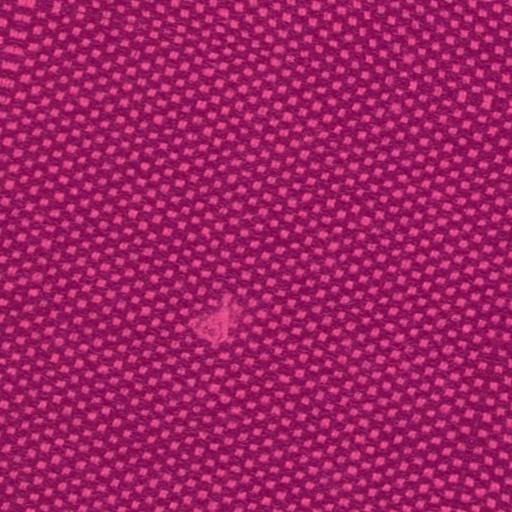knot: (185, 287, 242, 353)
